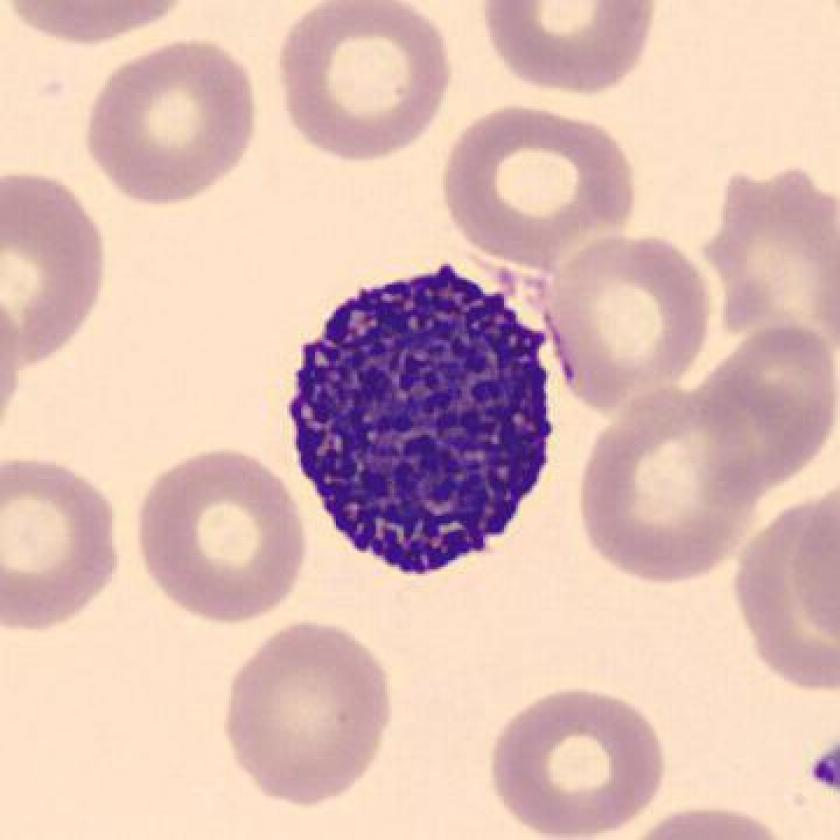basophil: (279, 258, 568, 584)
